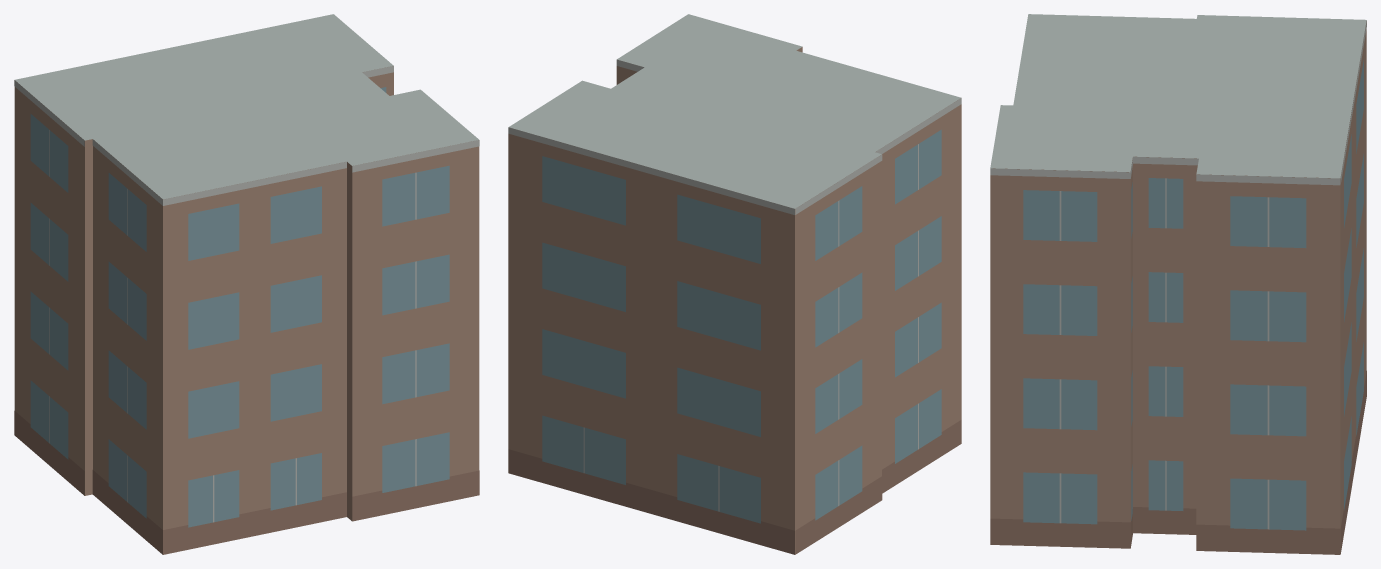
Rendered from survey-upis-33013820.glb.
3 views of the same model, side by side, from view 1: azimuth 30°, elevation 25°; view 2: azimuth 150°, elevation 25°; view 3: azimuth 270°, elevation 25° (orthographic). The views are drawn at different scales.
Parts seen in each view (by area): view 1: survey-upis-33013820.tmp; view 2: survey-upis-33013820.tmp; view 3: survey-upis-33013820.tmp.
Part boxes in pixels (x1,y1,x2,y2): survey-upis-33013820.tmp: (14, 14, 479, 554); survey-upis-33013820.tmp: (508, 14, 961, 554); survey-upis-33013820.tmp: (990, 14, 1366, 554).
Size of the model in its own units: 12.36 by 13.19 by 11.97.
